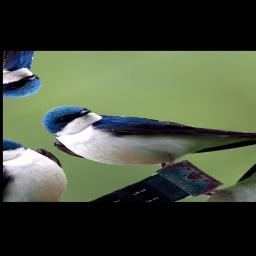Swallow: (17, 59, 256, 200)
